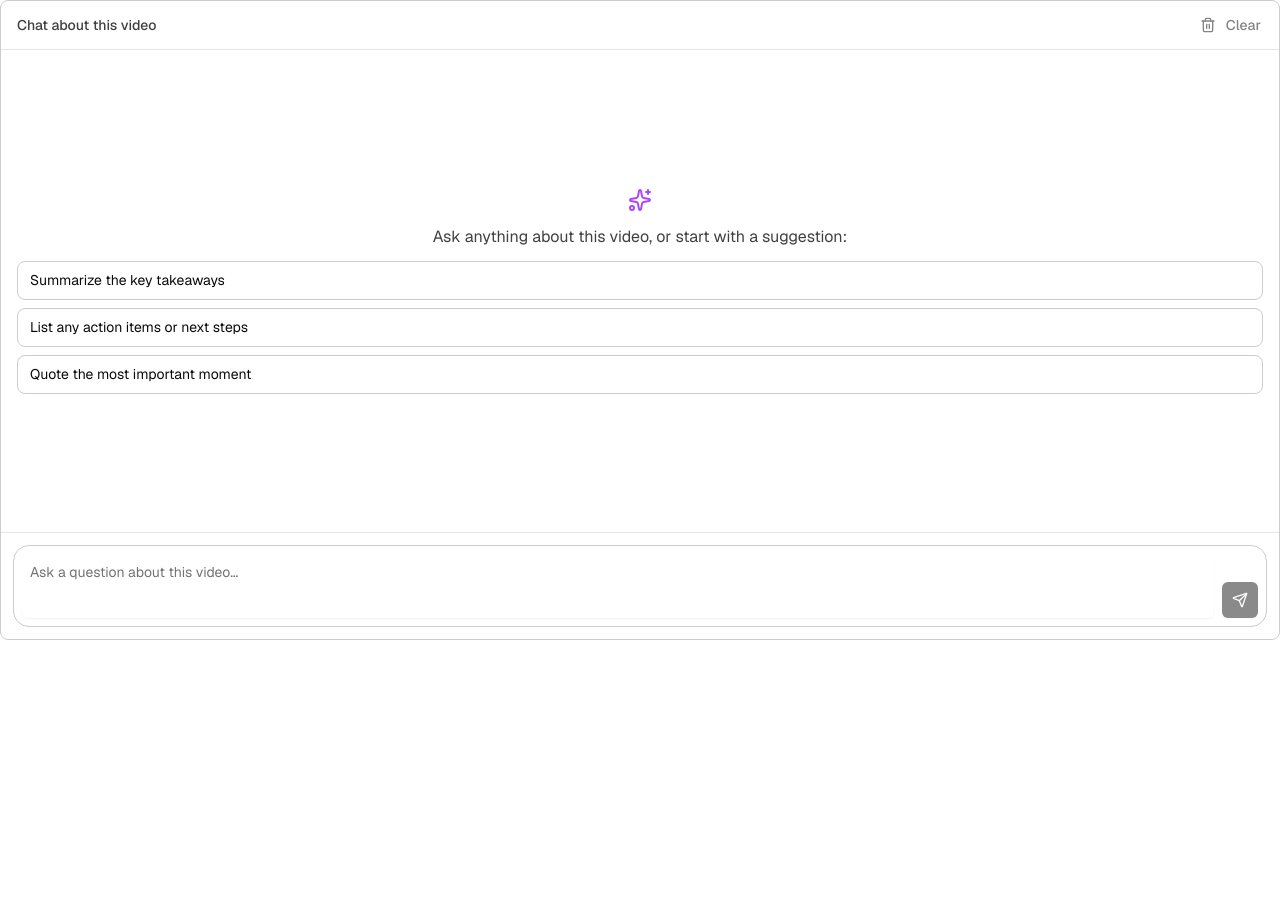
it: ChatTab › renders ChatCapBanner (free-cap) when the stream returns a 402 free_chat_exceeded
Check: the text "Ask anything about this video, or start with a suggestion:" is shown, box [433,226,847,247]
Type "hello" into the text box named "chat message" at (618, 586), box [22,554,1214,618]
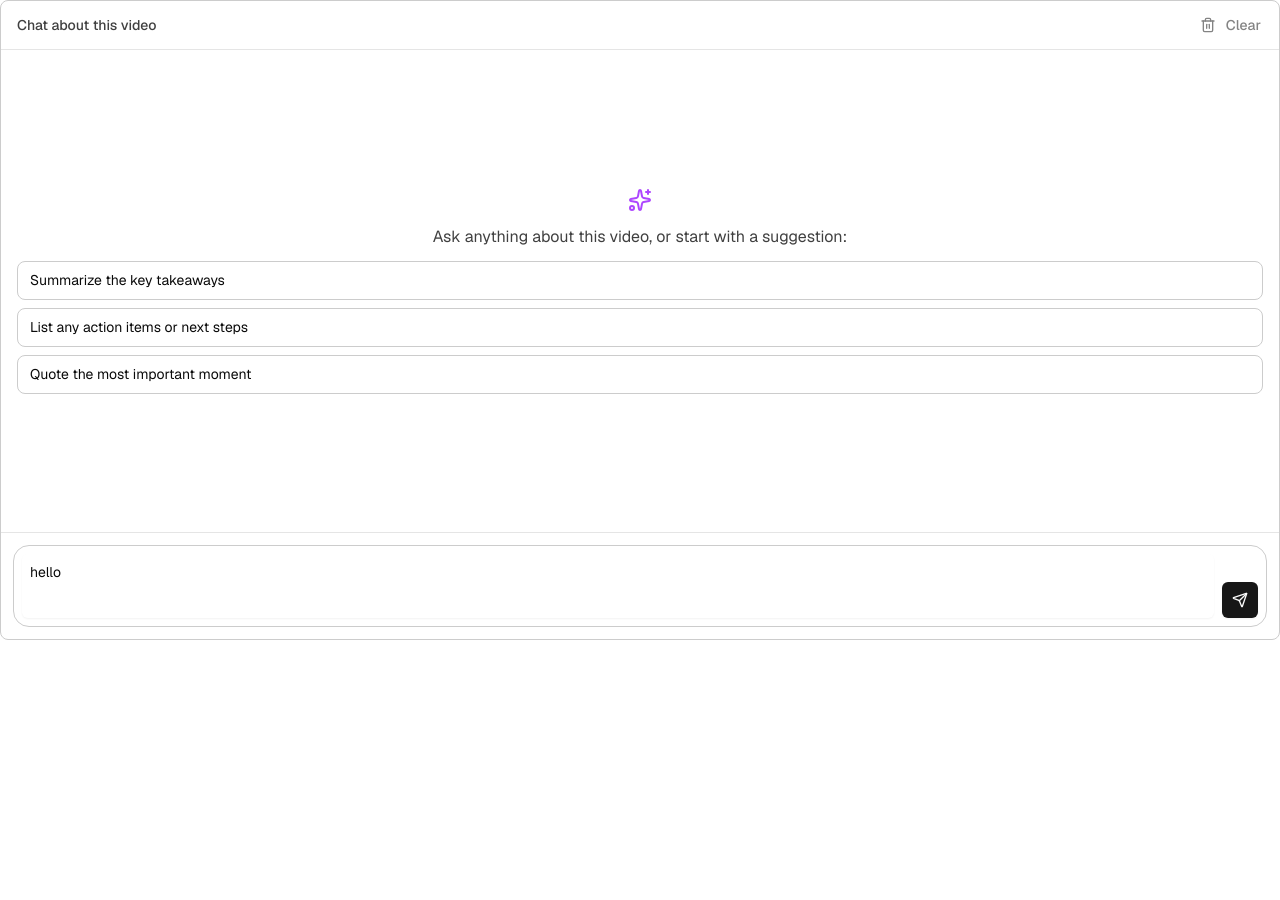
Click the button named "send message" at (1240, 600), box [1222,582,1258,618]
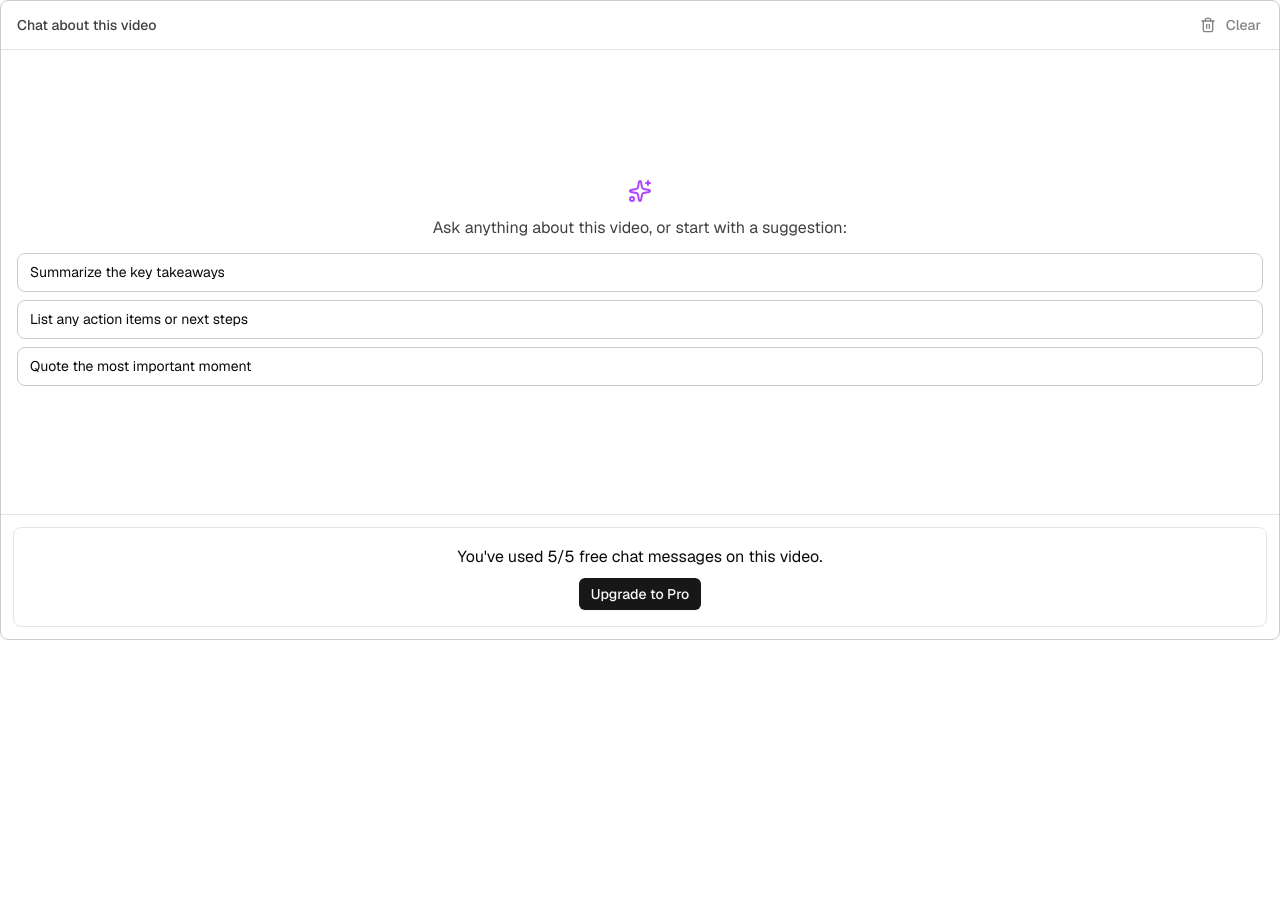
Check: the text "You've used 5/5 free chat messages on this video." is shown, box [458,546,822,567]
